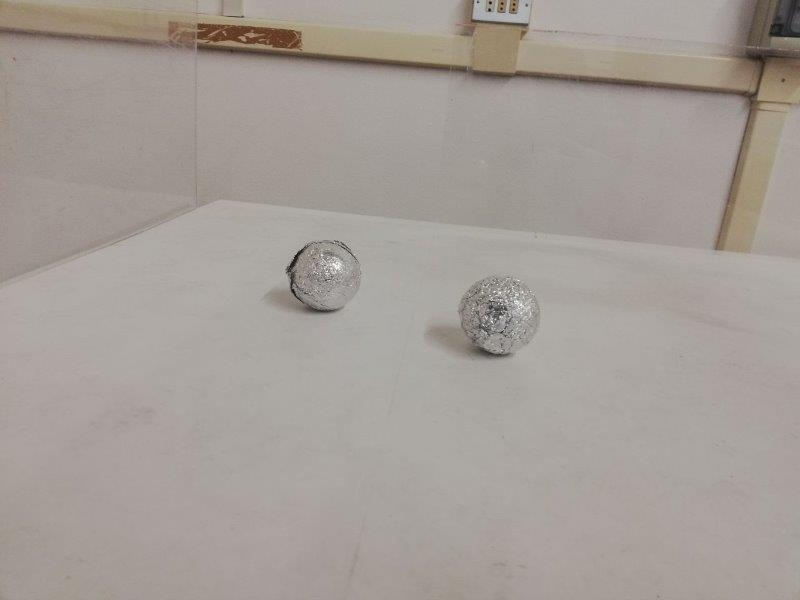bianca: (459, 274, 538, 355), (289, 237, 359, 312)
